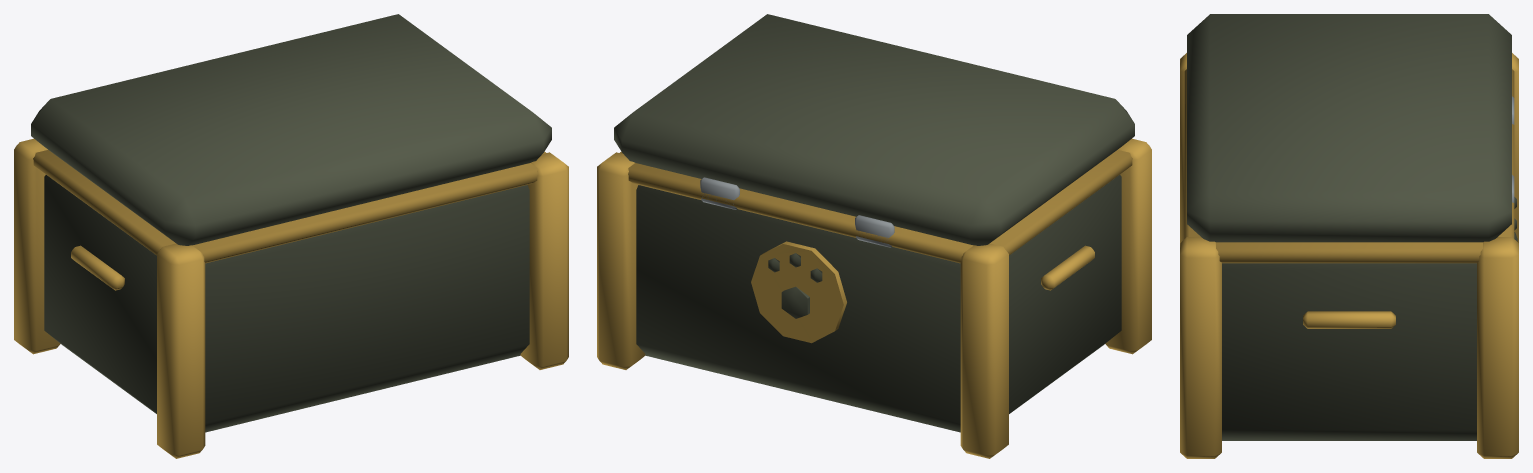
File: chest_3.glb
The picture shows the model from 3 angles, left to right: view 1: azimuth 30°, elevation 25°; view 2: azimuth 150°, elevation 25°; view 3: azimuth 270°, elevation 25°; orthographic projection. The views are drawn at different scales.
Visible parts, largest first — view 1: chest_3; view 2: chest_3; view 3: chest_3.
Boxes of the visible parts, box(x1,y1,x2,y2) form: chest_3: box(14, 14, 568, 458); chest_3: box(597, 14, 1151, 458); chest_3: box(1180, 14, 1518, 458).
Size of the model in its own units: 1.03 by 0.615 by 0.73.
1 material, 1 textured.
